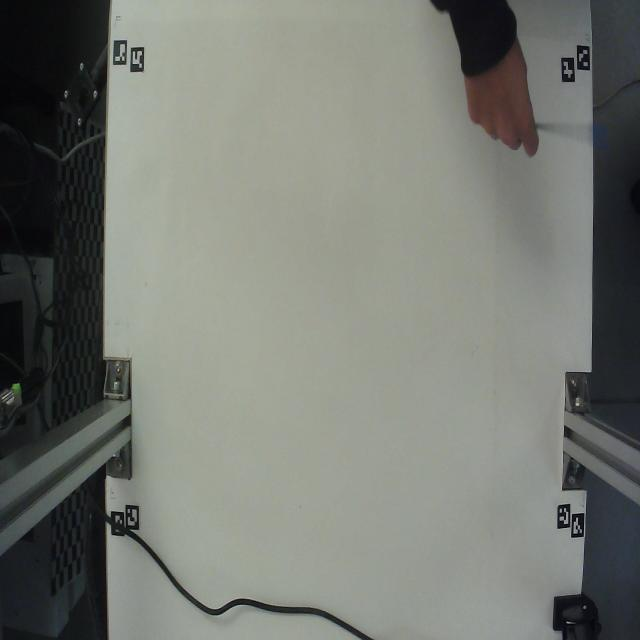NoPres: (524, 103, 619, 167)
